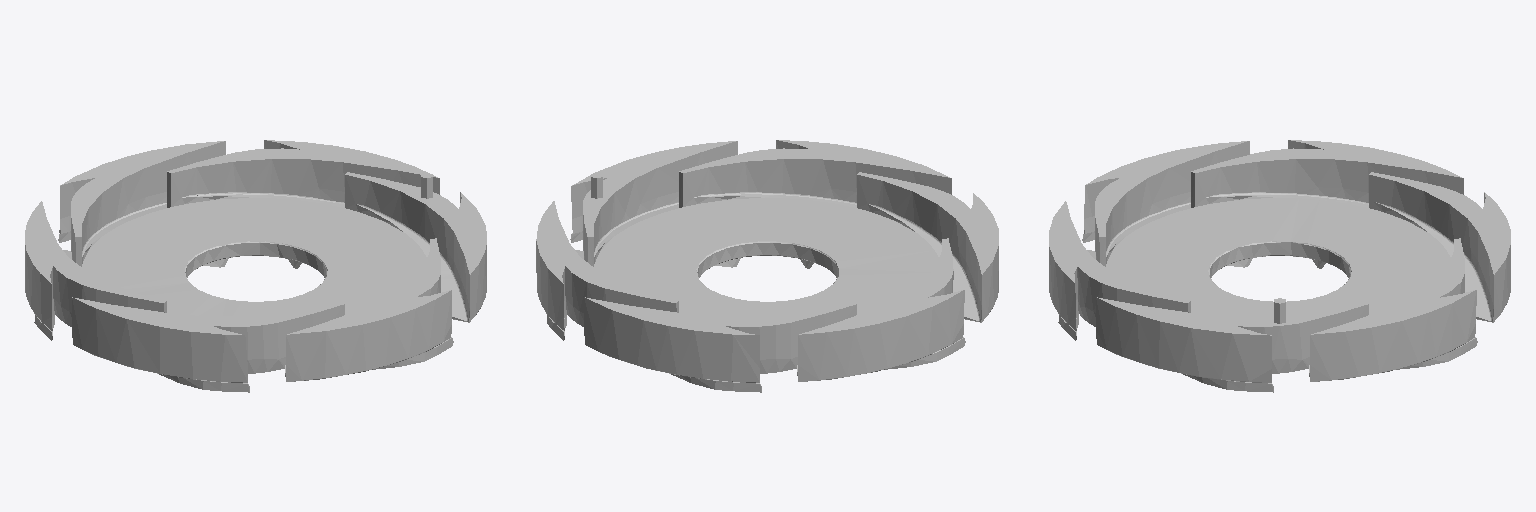
The model's file is guiding device.obj.
3 views of the same model, side by side, from view 1: azimuth 30°, elevation 25°; view 2: azimuth 150°, elevation 25°; view 3: azimuth 270°, elevation 25° (orthographic).
Visible parts, largest first — view 1: imagetostl_mesh; view 2: imagetostl_mesh; view 3: imagetostl_mesh.
Part boxes in pixels (bbox=[...]): imagetostl_mesh: bbox=[25, 140, 486, 392]; imagetostl_mesh: bbox=[536, 140, 998, 392]; imagetostl_mesh: bbox=[1049, 140, 1510, 392].
Size of the model in its own units: 410 by 75.66 by 410.